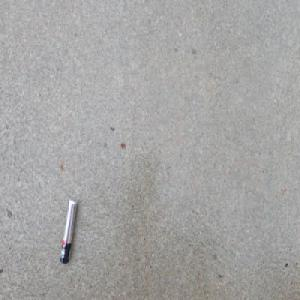Battery: (57, 195, 76, 264)
